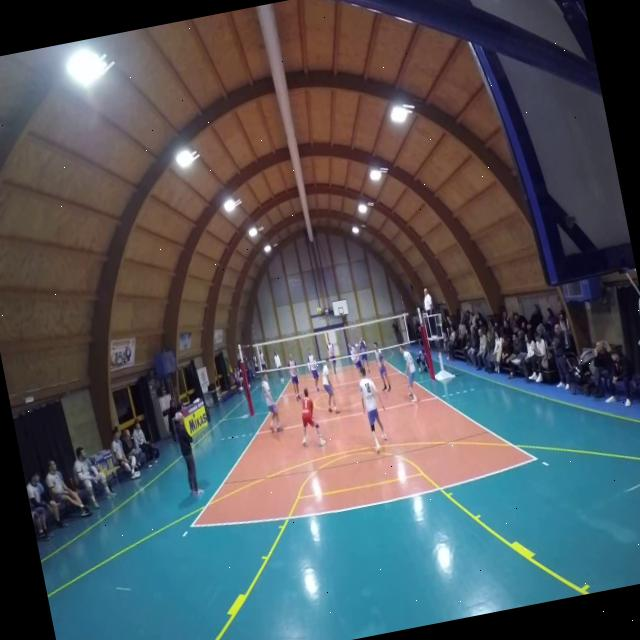Volleyball: (314, 304, 325, 318)
